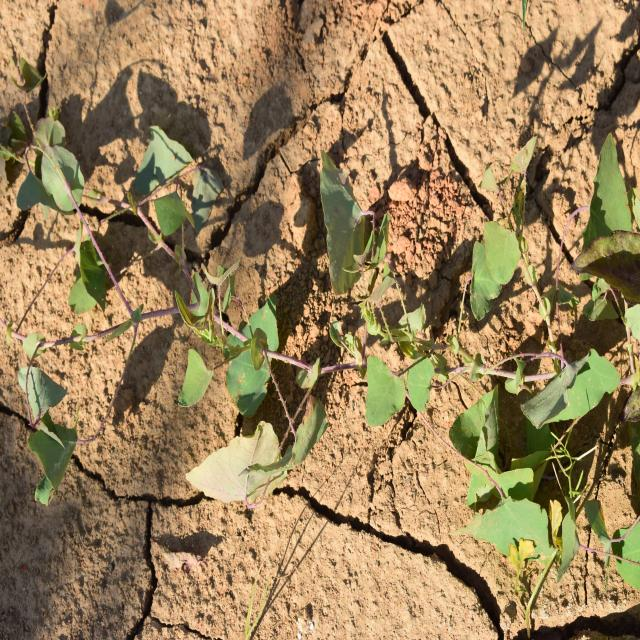Asiatic_Smartweed: (178, 286, 320, 503), (450, 121, 543, 322), (475, 425, 582, 576), (366, 358, 443, 437)
